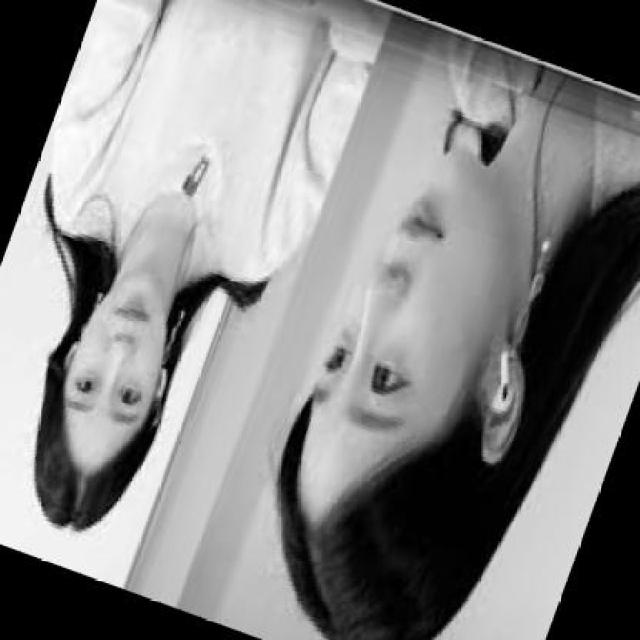earphone: (491, 340, 527, 432), (57, 329, 91, 373), (152, 355, 175, 418)
